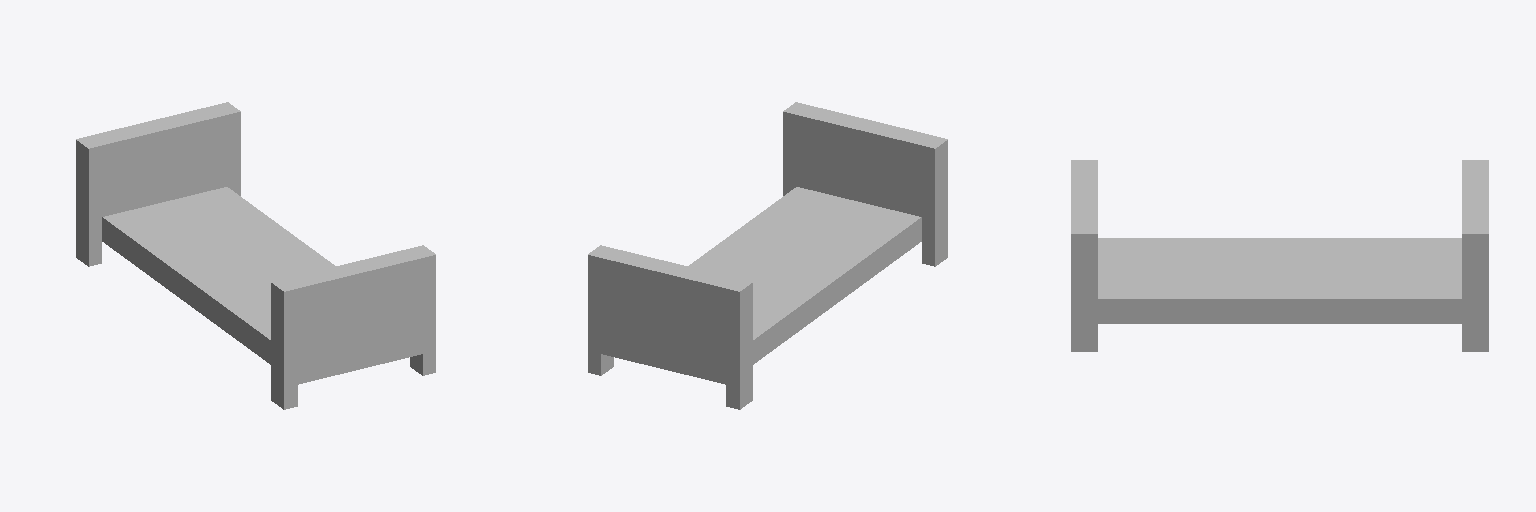
File: bed.obj
3 renders of one model, left to right at view 1: azimuth 30°, elevation 25°; view 2: azimuth 150°, elevation 25°; view 3: azimuth 270°, elevation 25°, orthographic.
Visible parts, largest first — view 1: Mesh; view 2: Mesh; view 3: Mesh.
Part boxes in pixels (x1,y1,x2,y2): Mesh: (76, 102, 435, 409); Mesh: (588, 102, 947, 409); Mesh: (1071, 160, 1488, 351).
Size of the model in its own units: 1.89 by 1.4 by 4.48.